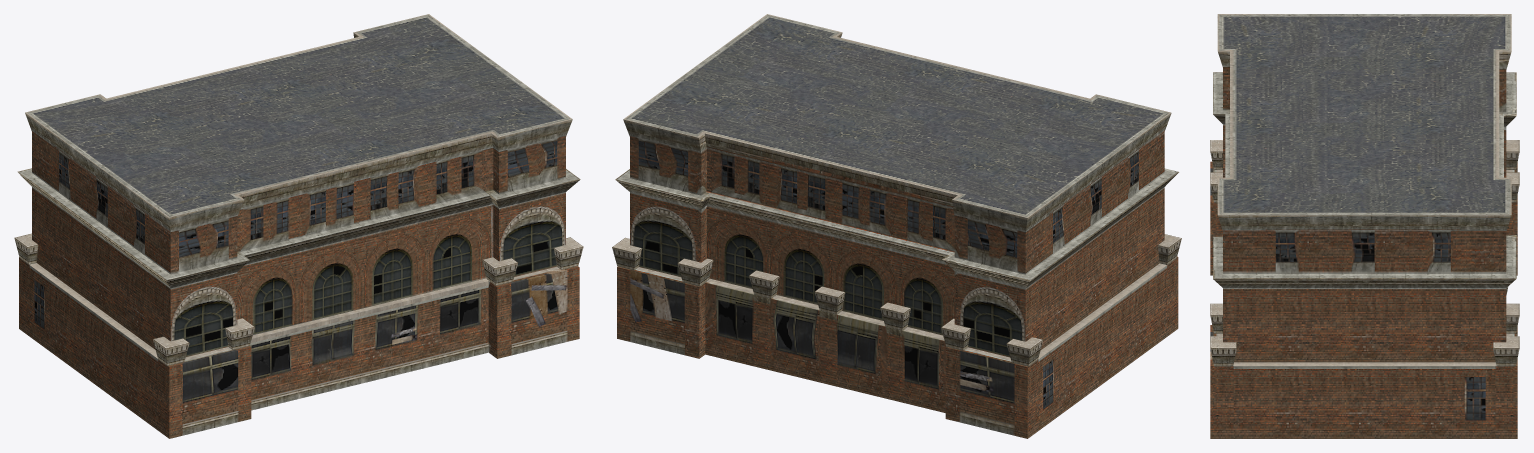
File: Build4_el4_LOD2.fbx
3 renders of one model, left to right at view 1: azimuth 30°, elevation 25°; view 2: azimuth 150°, elevation 25°; view 3: azimuth 270°, elevation 25°, orthographic. The views are drawn at different scales.
Visible parts, largest first — view 1: polySurface147; view 2: polySurface147; view 3: polySurface147.
Boxes of the visible parts, x1,y1,x2,y2 form: polySurface147: [14, 14, 583, 438]; polySurface147: [612, 14, 1181, 438]; polySurface147: [1210, 14, 1519, 438].
Bounding box in the file's own units: 46.37 × 23.09 × 29.15.
